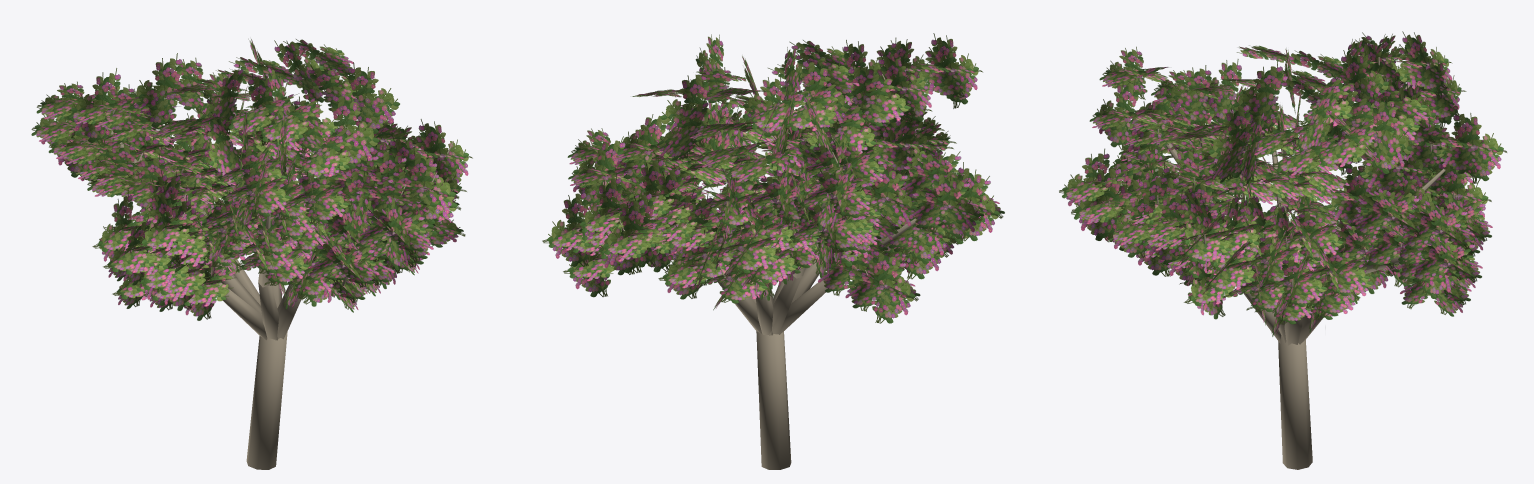
Rendered from orchid-tree.glb.
3 views of the same model, side by side, from view 1: azimuth 30°, elevation 25°; view 2: azimuth 150°, elevation 25°; view 3: azimuth 270°, elevation 25° (orthographic). The views are drawn at different scales.
Parts seen in each view (by area): view 1: orchid-tree_landscape_foliage, orchid-tree_landscape_bark; view 2: orchid-tree_landscape_foliage, orchid-tree_landscape_bark; view 3: orchid-tree_landscape_foliage, orchid-tree_landscape_bark.
Part boxes in pixels (x1,y1,x2,y2): orchid-tree_landscape_foliage: [31, 39, 472, 320]; orchid-tree_landscape_bark: [106, 103, 453, 469]; orchid-tree_landscape_foliage: [542, 33, 1004, 323]; orchid-tree_landscape_bark: [589, 74, 933, 469]; orchid-tree_landscape_foliage: [1059, 31, 1506, 336]; orchid-tree_landscape_bark: [1108, 57, 1457, 469].
Size of the model in its own units: 7.51 by 7.24 by 7.46.
Materials: 2 (1 with a texture image).
